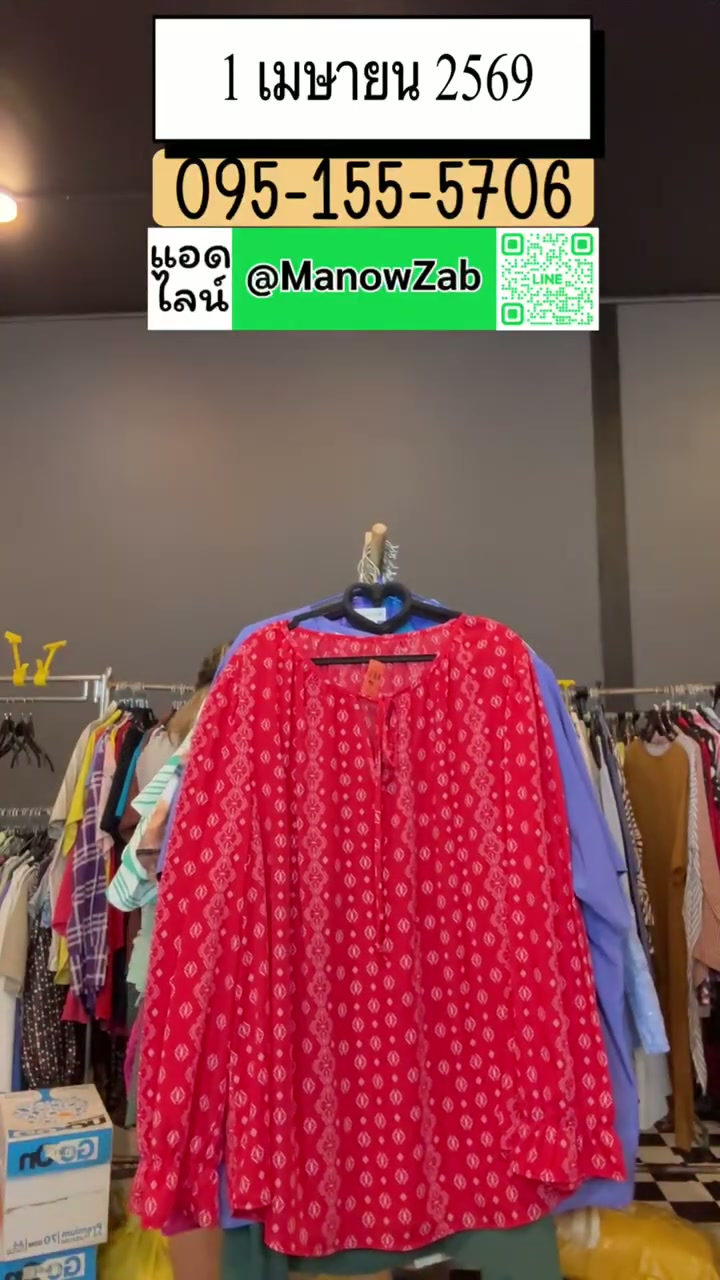display_shirt: (136, 616, 623, 1256)
